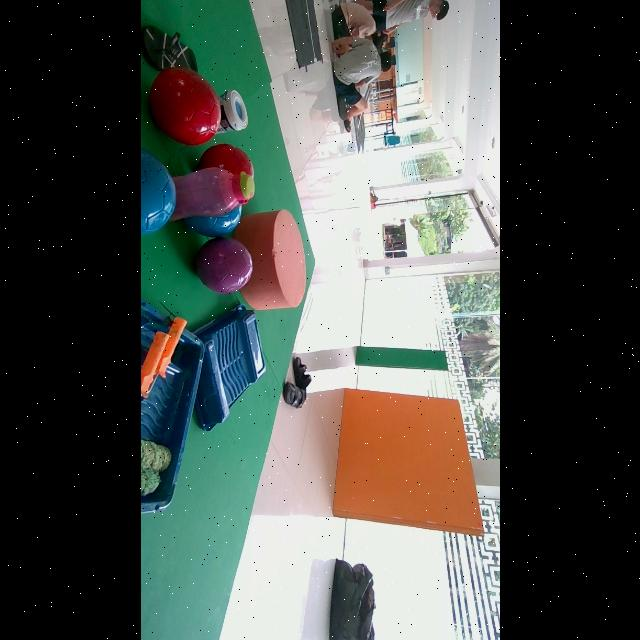B: (140, 148, 175, 234), (183, 204, 242, 237)
P: (194, 237, 252, 294)
R: (149, 68, 219, 145), (198, 144, 253, 177)
